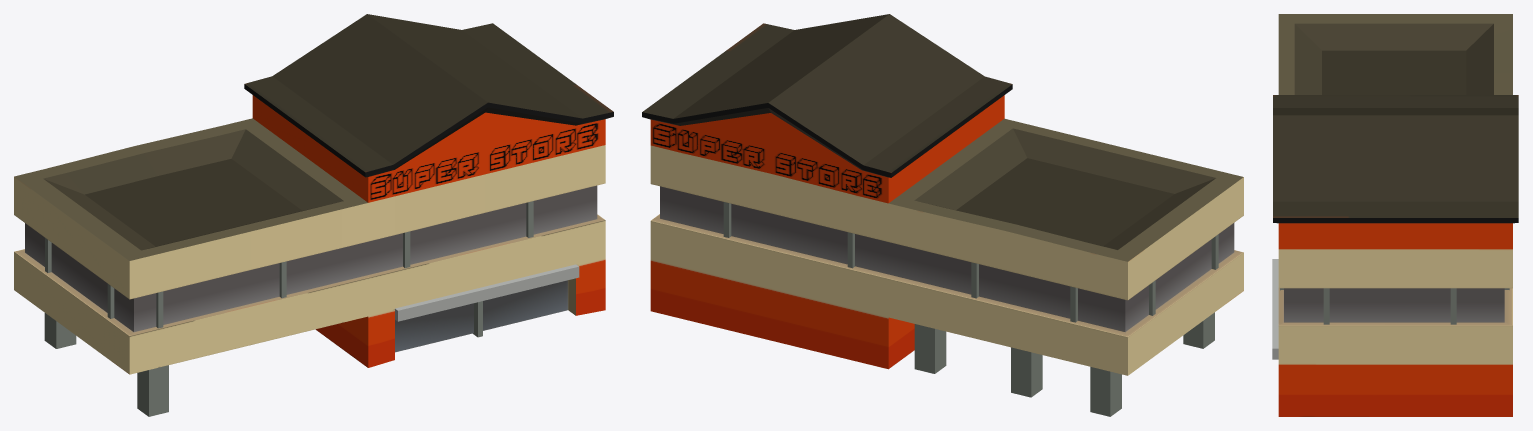
File: Store.fbx
The picture shows the model from 3 angles, left to right: view 1: azimuth 30°, elevation 25°; view 2: azimuth 150°, elevation 25°; view 3: azimuth 270°, elevation 25°; orthographic projection.
Parts seen in each view (by area): view 1: Store; view 2: Store; view 3: Store.
Part boxes in pixels (bbox=[...]): Store: bbox=[14, 14, 613, 416]; Store: bbox=[642, 14, 1243, 416]; Store: bbox=[1272, 14, 1518, 416].
Size of the model in its own units: 1416 by 672 by 618.
